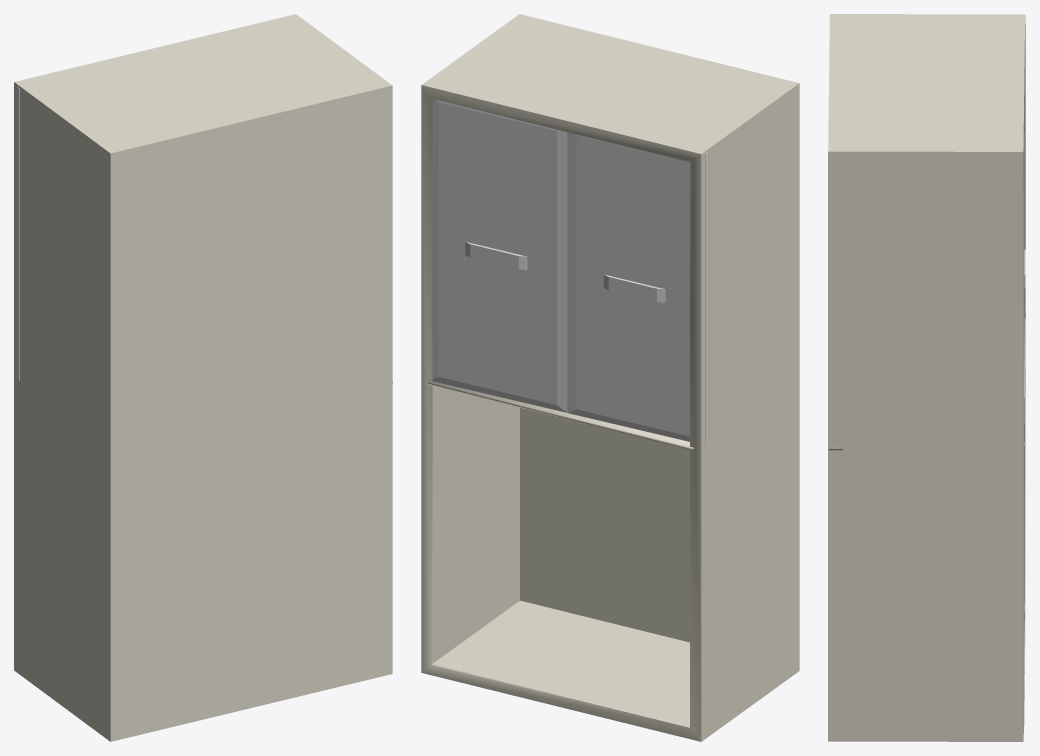
The model's file is EstanteGrande.fbx.
The picture shows the model from 3 angles, left to right: view 1: azimuth 30°, elevation 25°; view 2: azimuth 150°, elevation 25°; view 3: azimuth 270°, elevation 25°; orthographic projection.
Parts seen in each view (by area): view 1: Torreta de farmacia.009, Cubo.104_Cubo.216; view 2: Torreta de farmacia.009, Cubo.105_Cubo.217, Cubo.104_Cubo.216; view 3: Torreta de farmacia.009.
Boxes of the visible parts, left/top/right/bottom form: Torreta de farmacia.009: left=14, top=14, right=392, bottom=741; Cubo.104_Cubo.216: left=17, top=87, right=19, bottom=380; Torreta de farmacia.009: left=421, top=14, right=799, bottom=741; Cubo.105_Cubo.217: left=432, top=99, right=567, bottom=412; Cubo.104_Cubo.216: left=567, top=132, right=707, bottom=445; Torreta de farmacia.009: left=828, top=14, right=1025, bottom=741.
Bounding box in the file's own units: 100 × 200 × 60.73.
Materials: 3 (1 with a texture image).
